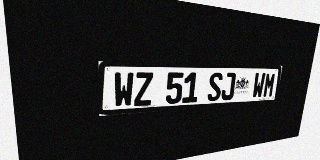1: (182, 72, 199, 103)
5: (166, 72, 184, 104)
J: (221, 72, 236, 101)
M: (262, 73, 276, 98)
S: (207, 72, 223, 101)
W: (114, 72, 134, 108), (252, 73, 266, 98)
Z: (134, 72, 153, 106)
